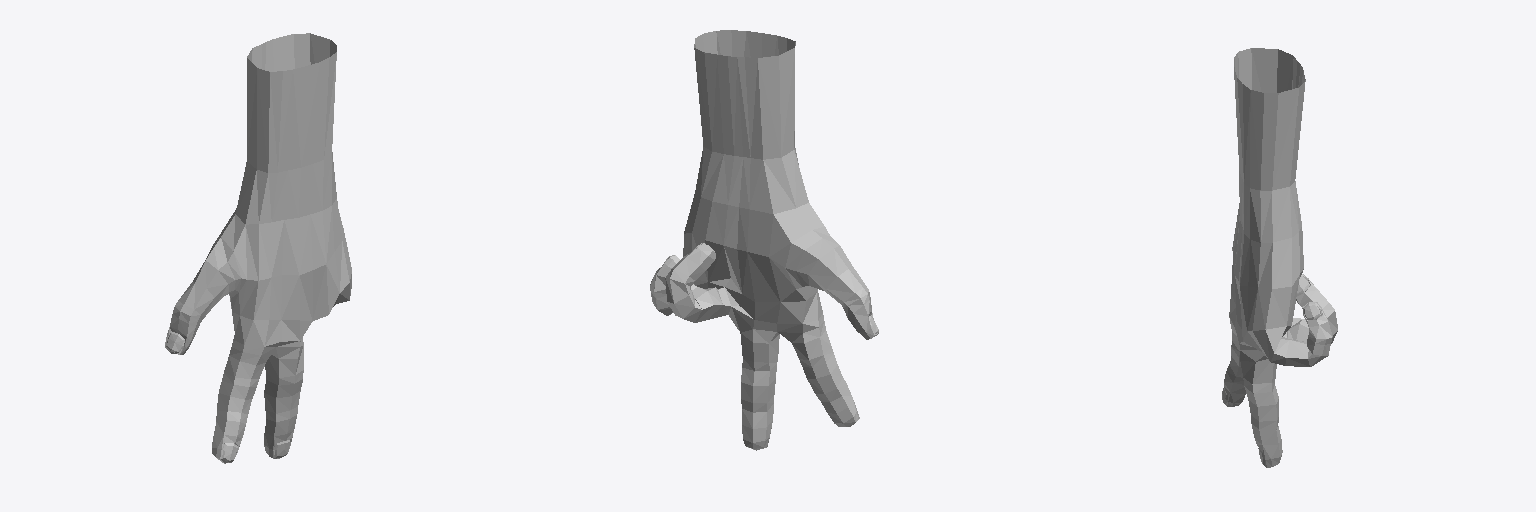
Rendered from handAnimated4_000047.obj.
3 renders of one model, left to right at view 1: azimuth 30°, elevation 25°; view 2: azimuth 150°, elevation 25°; view 3: azimuth 270°, elevation 25°, orthographic.
Visible parts, largest first — view 1: Cube.000_Cube.017_Detached_Detached; view 2: Cube.000_Cube.017_Detached_Detached; view 3: Cube.000_Cube.017_Detached_Detached.
Part boxes in pixels (x1,y1,x2,y2): Cube.000_Cube.017_Detached_Detached: (165,33,351,463); Cube.000_Cube.017_Detached_Detached: (650,30,878,450); Cube.000_Cube.017_Detached_Detached: (1222,48,1337,467).
Bounding box in the file's own units: 0.69 × 1.34 × 0.3518.